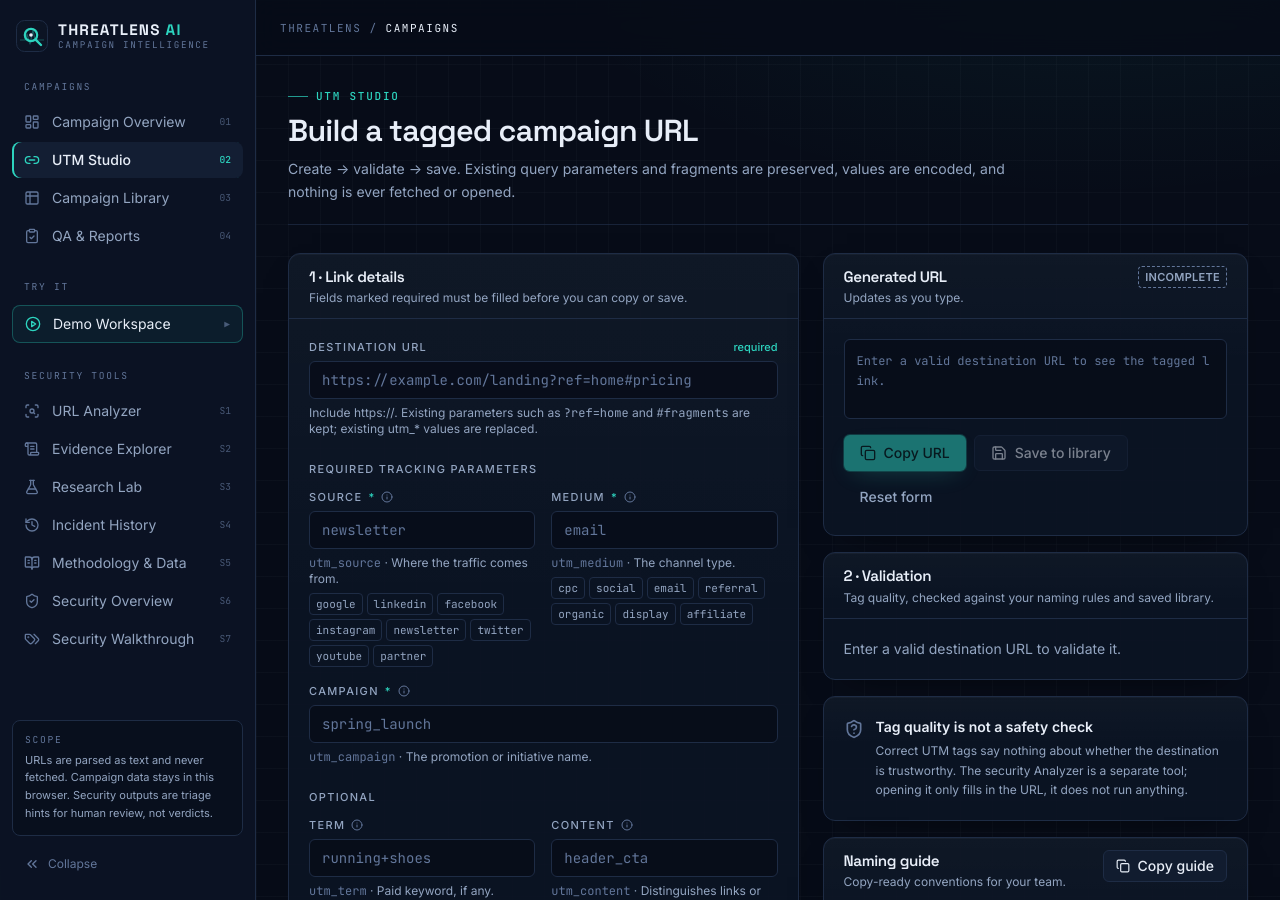
it: URL Studio › shows an inline error for an invalid destination
Type "example.com" into the field labelled "Destination URL required" at (543, 380), box [309,361,778,399]
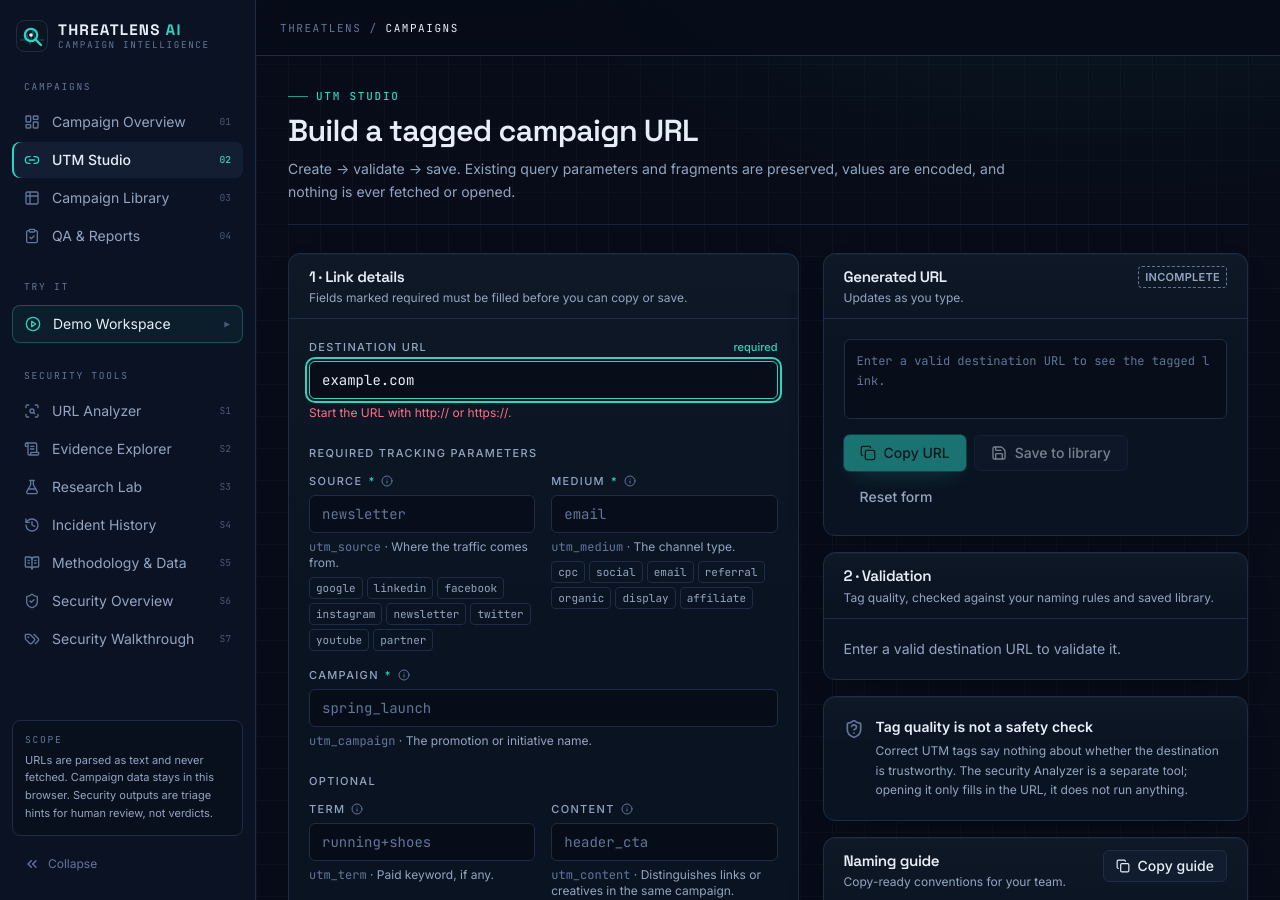
Expected: the button "Copy URL" is disabled, [844,435,966,471]
Expected: the text "Start the URL with http:// or https://." is shown, [309,405,511,420]
